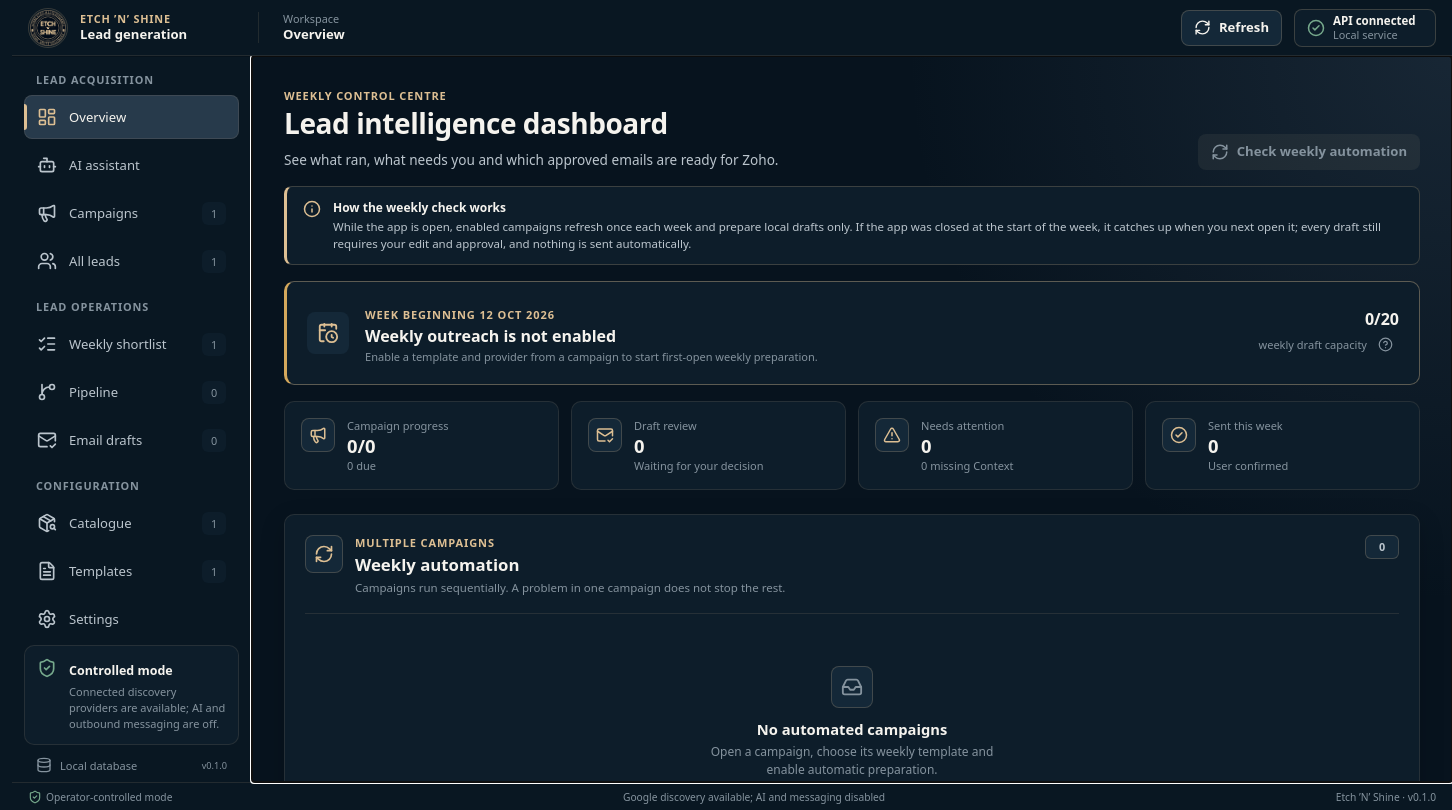
local operating workbench › confirms campaign deletion with its lead impact before deleting
This screenshot has width=1452, height=810.
expect the text "API connected" is shown: met, box [1333,14,1416,28]
Click the link "Campaigns 1" at (132, 213), box [37,202,226,224]
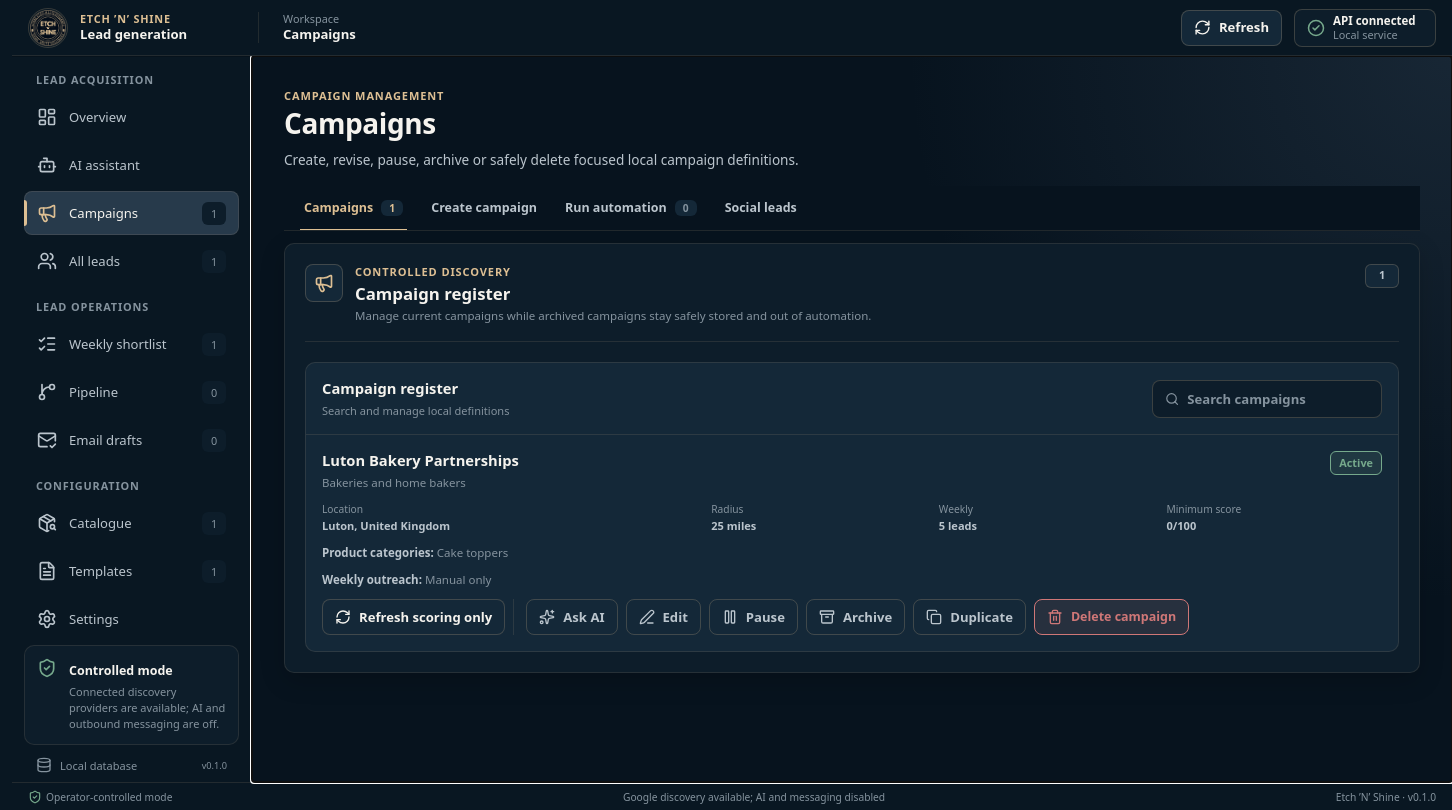
Click the button "Delete campaign" at (1112, 618), box [1034,600,1189,636]
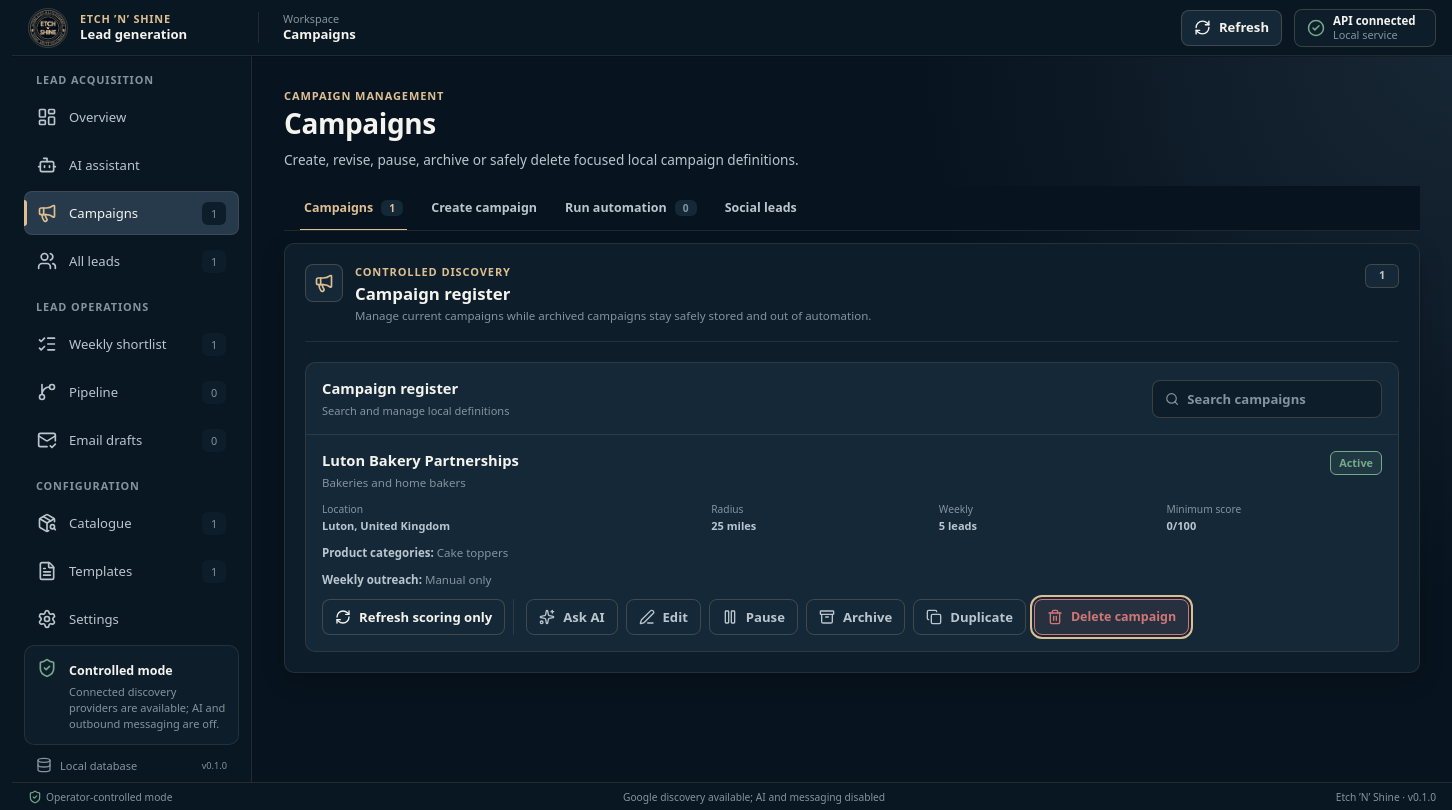
Click the button "Delete campaign" at (1112, 618), box [1034,600,1189,636]
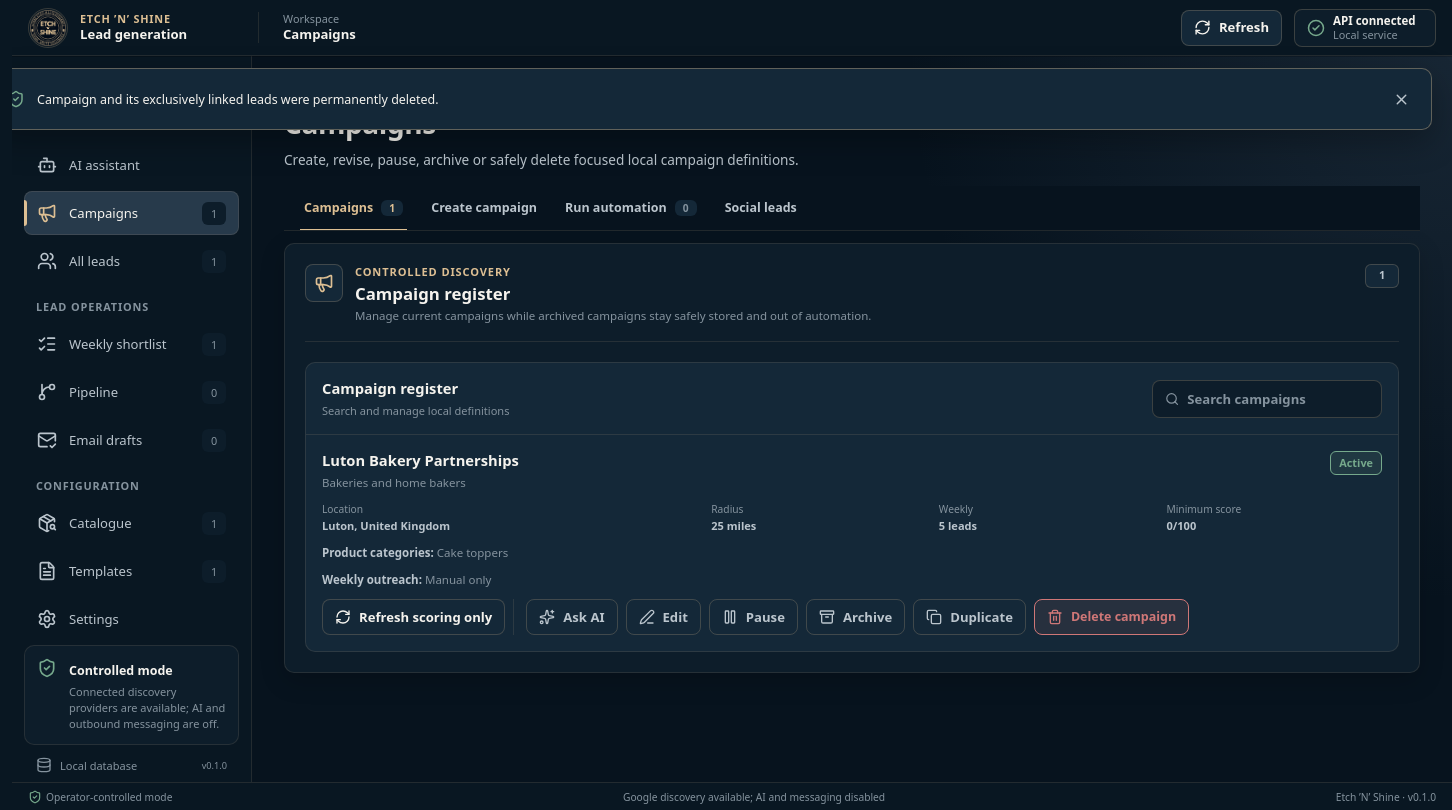
expect the text "Campaign and its exclusively linked leads were permanently deleted." is shown: met, box [37,90,439,108]
